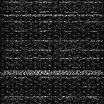lte: (1, 70, 104, 75)
